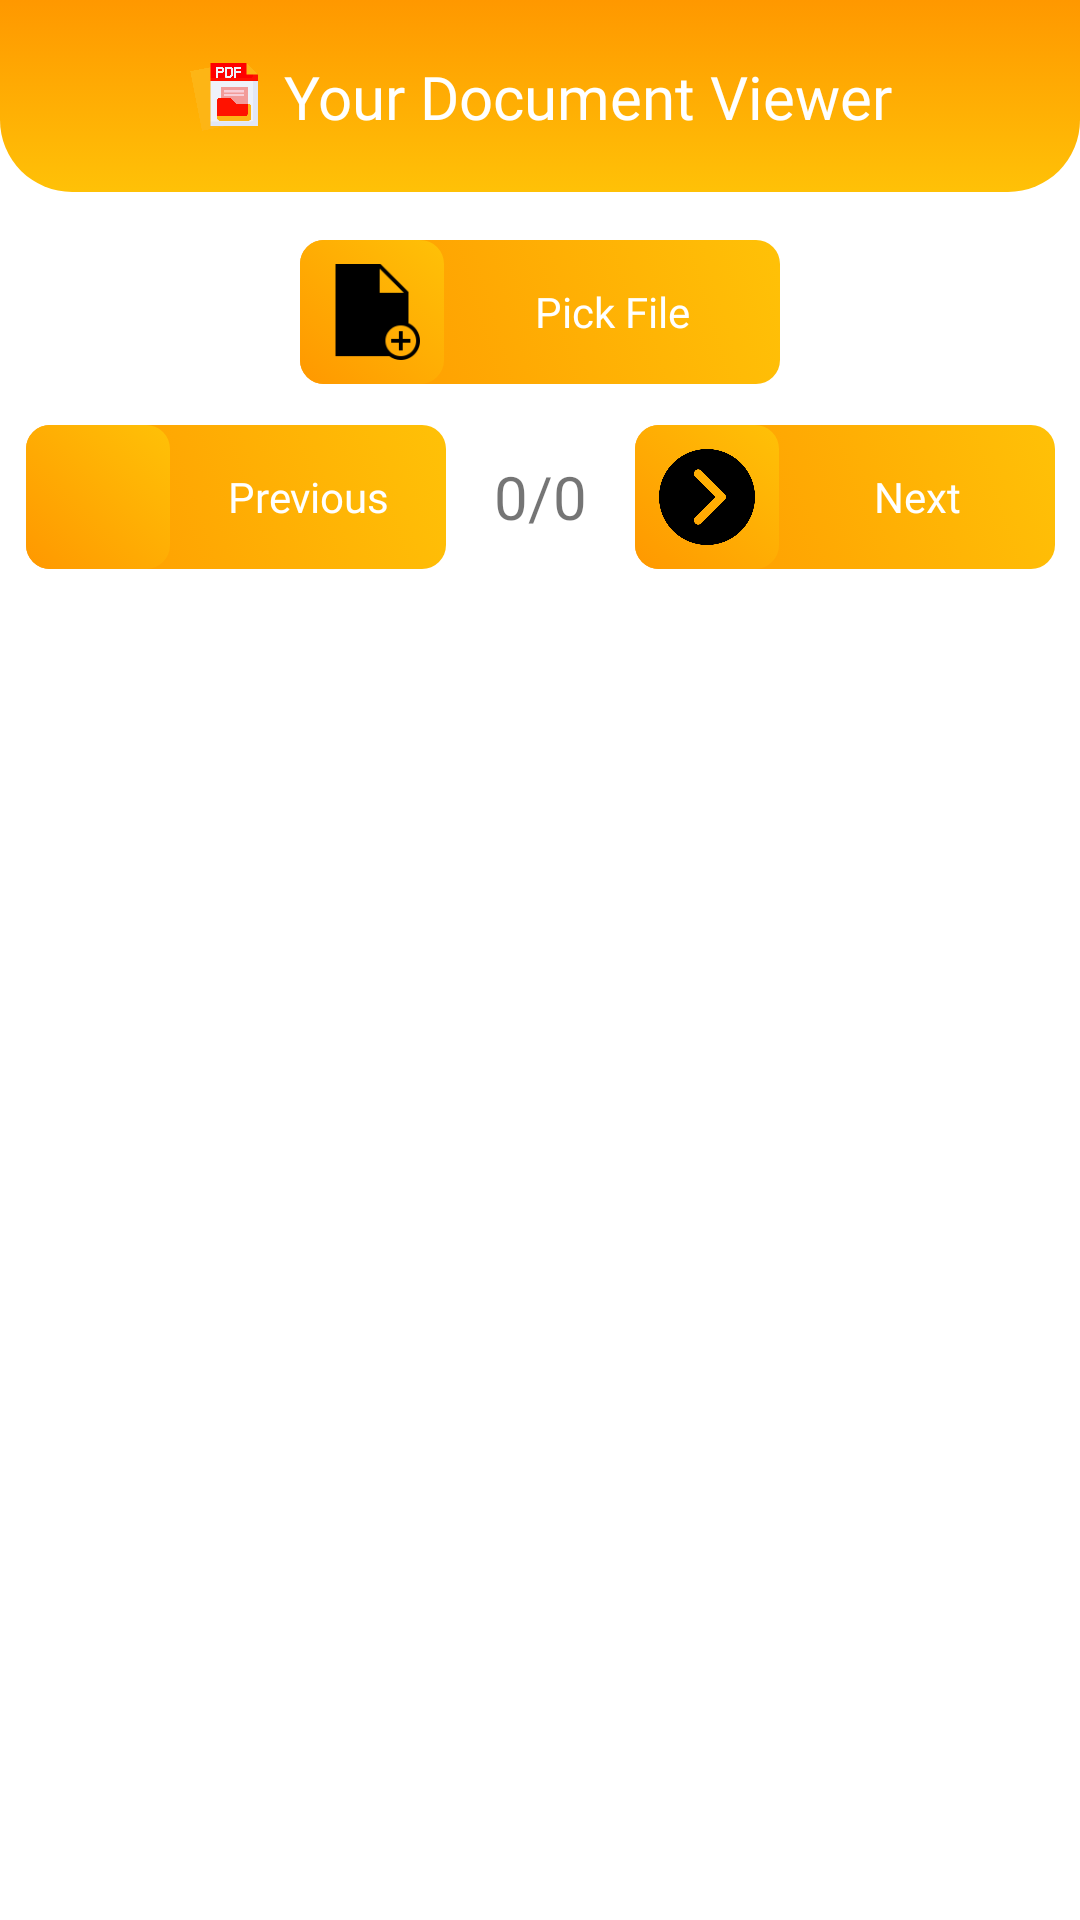

Screen size 1080x1920. Icon name, then its center in pixels as point (x, y):
add file: point (372, 312)
